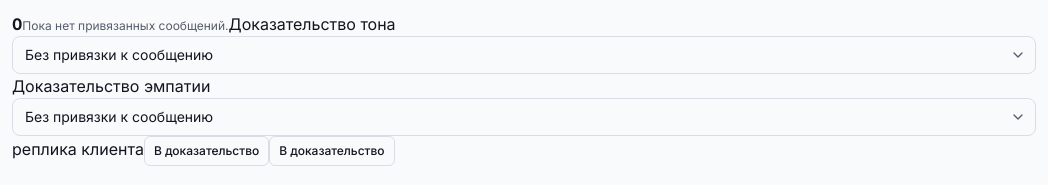
Test case: evidence draft state › puts the clicked reply into the first empty criterion and grows the live count
Expected: the dropdown labelled "Доказательство тона" shows "Без привязки к сообщению", left=12, top=36, right=1036, bottom=74
Expected: the text "0" is shown, left=12, top=14, right=22, bottom=34
Click the 1st button "В доказательство" at (207, 151), box left=144, top=136, right=269, bottom=166
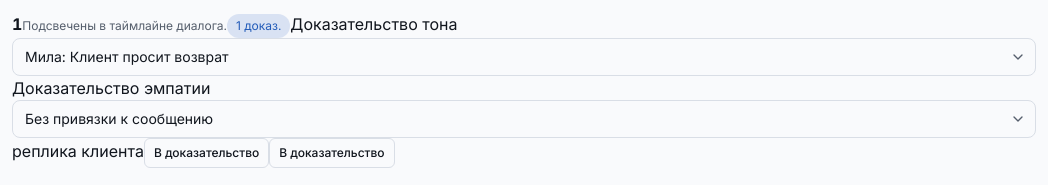
Now the dropdown labelled "Доказательство тона" shows "Мила: Клиент просит возврат", box left=12, top=38, right=1036, bottom=76
Now the text "1" is shown, box left=12, top=14, right=22, bottom=34
Now the text "1 доказ." is shown, box left=227, top=14, right=290, bottom=38
Click the 2nd button "В доказательство" at (332, 153), box left=269, top=138, right=395, bottom=168
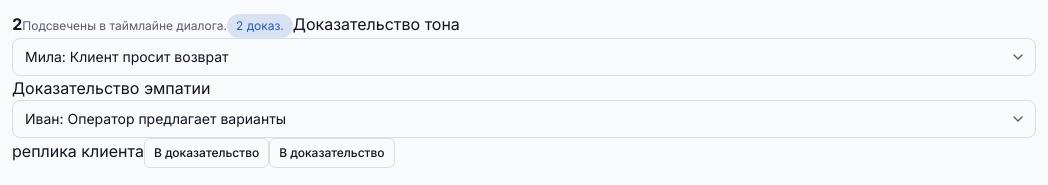
Now the dropdown labelled "Доказательство тона" shows "Мила: Клиент просит возврат", box left=12, top=38, right=1036, bottom=76
Now the dropdown labelled "Доказательство эмпатии" shows "Иван: Оператор предлагает варианты", box left=12, top=100, right=1036, bottom=138
Now the text "2" is shown, box left=12, top=14, right=22, bottom=34
